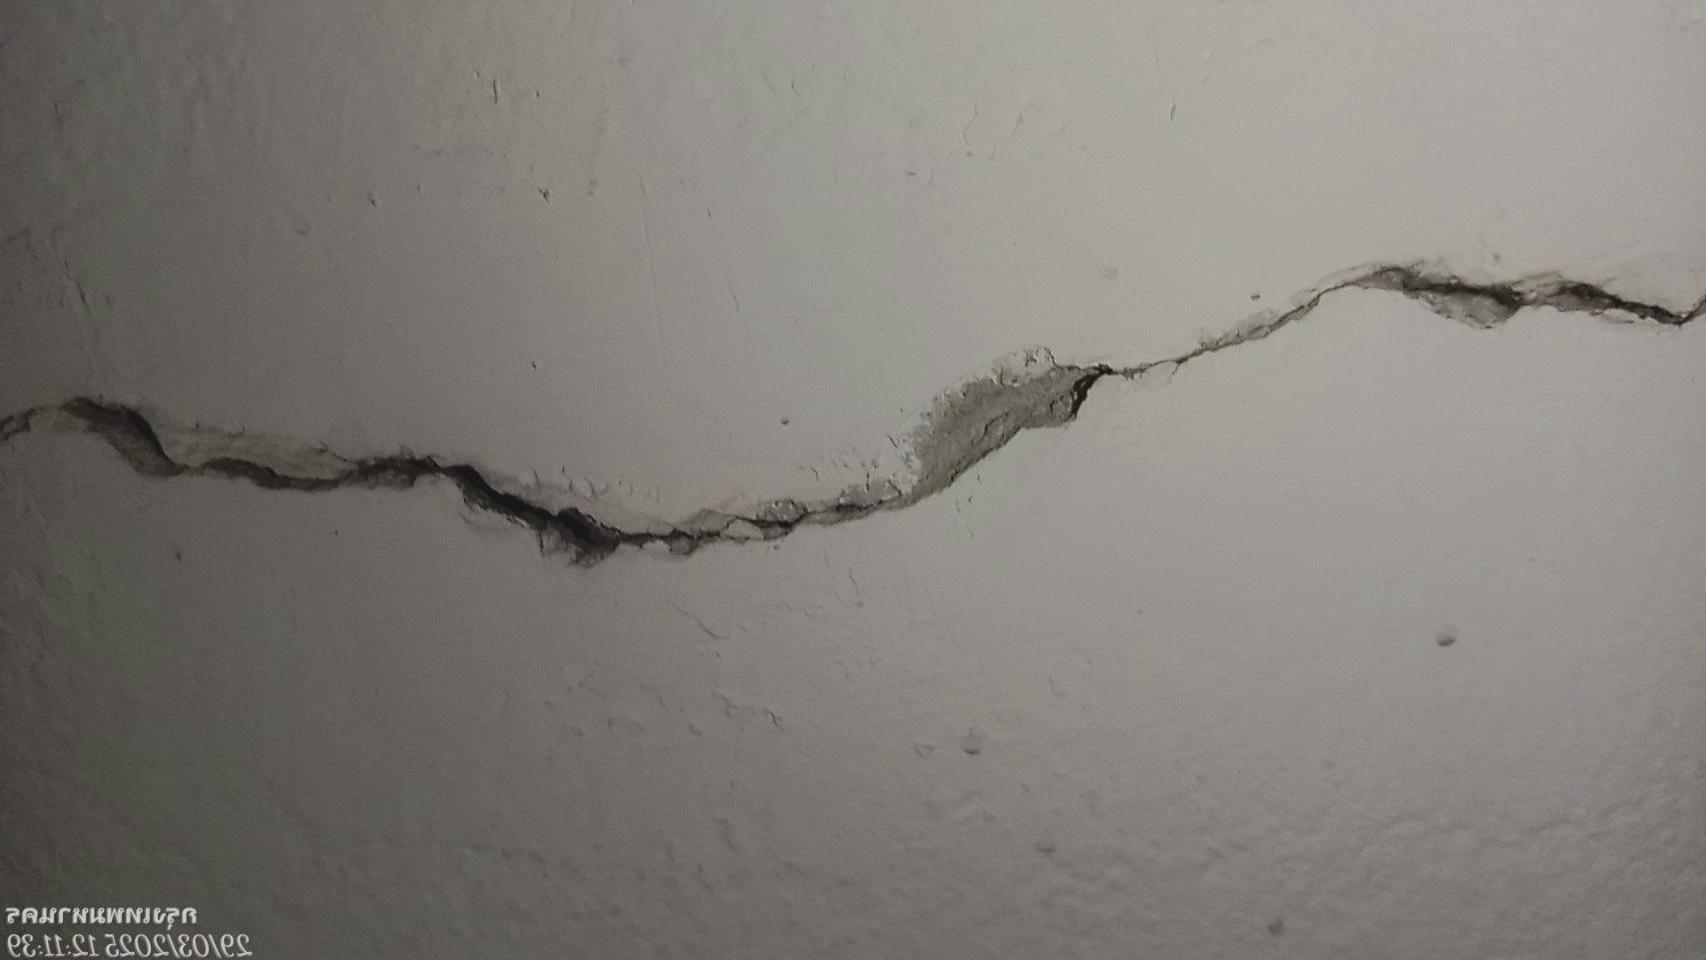High: (9, 210, 1706, 602)
